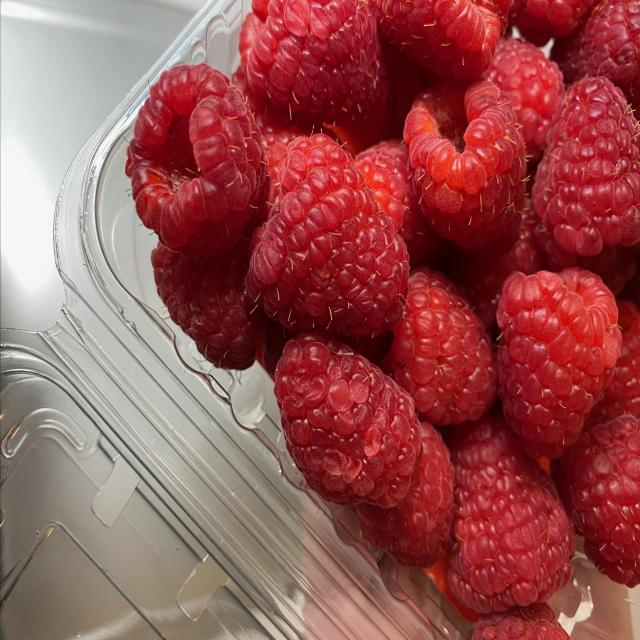Raspberry: (128, 21, 638, 588)
